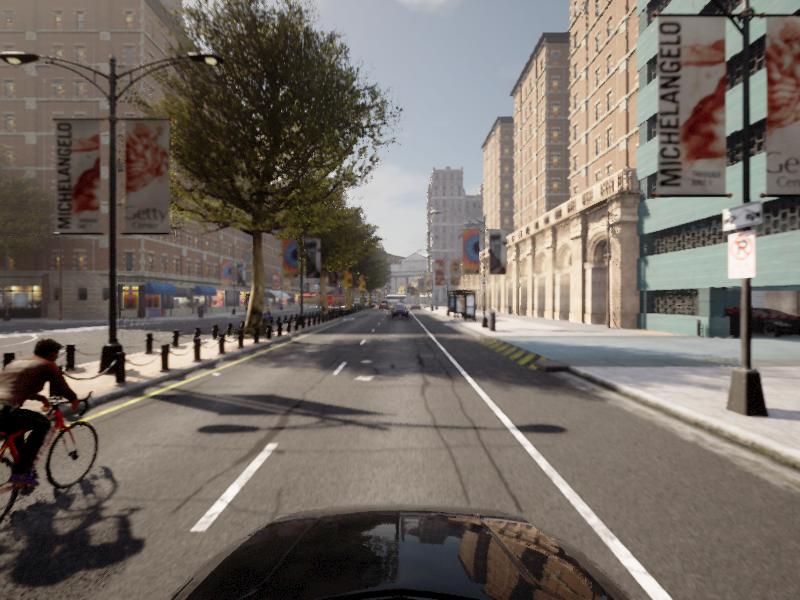vehicle: (1, 333, 124, 568), (259, 304, 275, 323), (390, 305, 409, 318), (250, 303, 265, 319)
